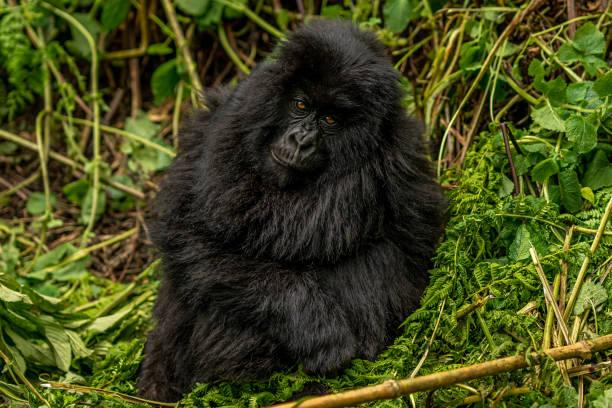goriile_montagne: (130, 16, 460, 388)
